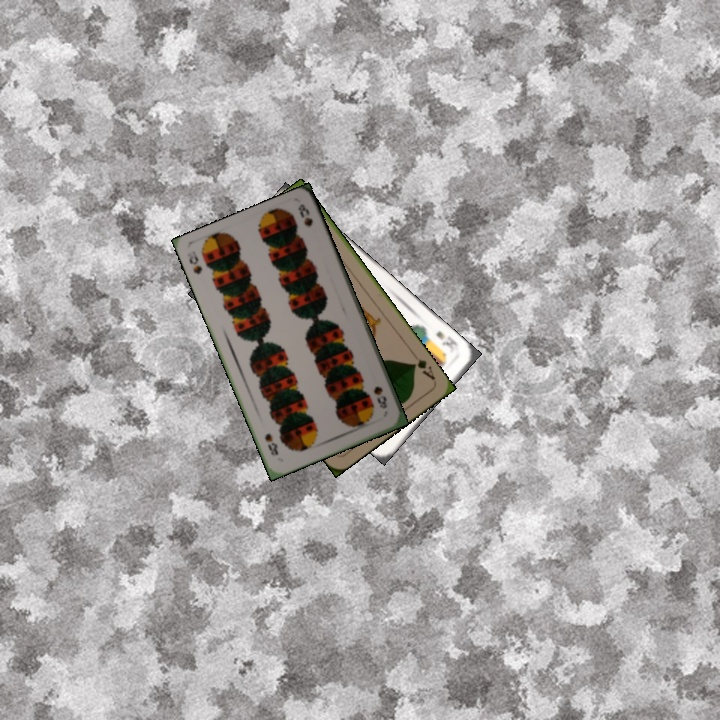EK: (432, 327, 462, 355)
GA: (408, 355, 438, 383)
S8: (183, 247, 205, 277), (369, 382, 390, 411)
